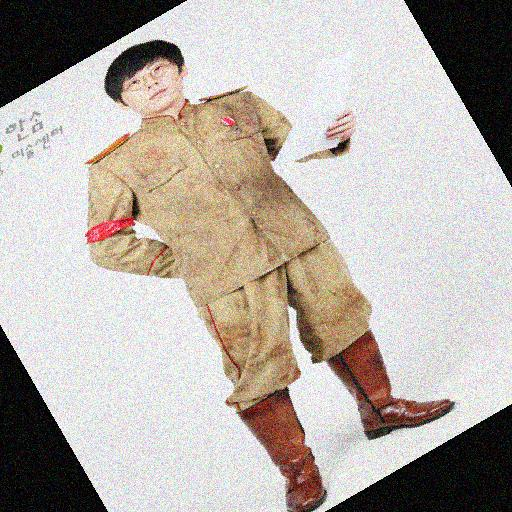north army: (85, 25, 396, 397)
